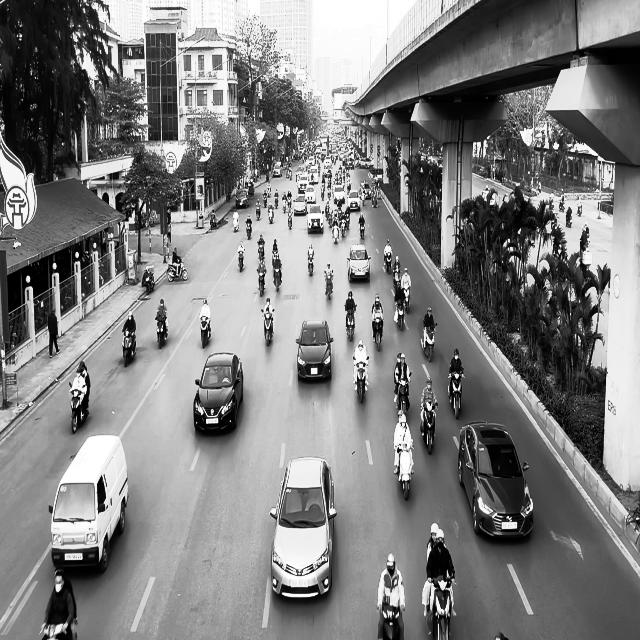car: (269, 456, 337, 600), (457, 421, 534, 540), (193, 352, 243, 434), (296, 319, 334, 382), (347, 244, 371, 282)
motorbike: (426, 574, 454, 640), (394, 442, 414, 500), (68, 382, 90, 433), (379, 602, 403, 639), (420, 402, 437, 454), (448, 369, 464, 419), (353, 356, 369, 403), (420, 322, 437, 362), (395, 372, 411, 414), (122, 329, 136, 367), (166, 259, 188, 282), (261, 308, 274, 346), (344, 304, 357, 342), (155, 314, 168, 348), (372, 316, 383, 351), (142, 265, 155, 294), (394, 297, 405, 331), (200, 316, 211, 348), (324, 271, 334, 299), (273, 264, 282, 292), (257, 268, 266, 296), (237, 249, 245, 272), (358, 220, 366, 240), (307, 254, 314, 276), (245, 221, 252, 239), (232, 215, 238, 232)
truck: (48, 434, 128, 573)
